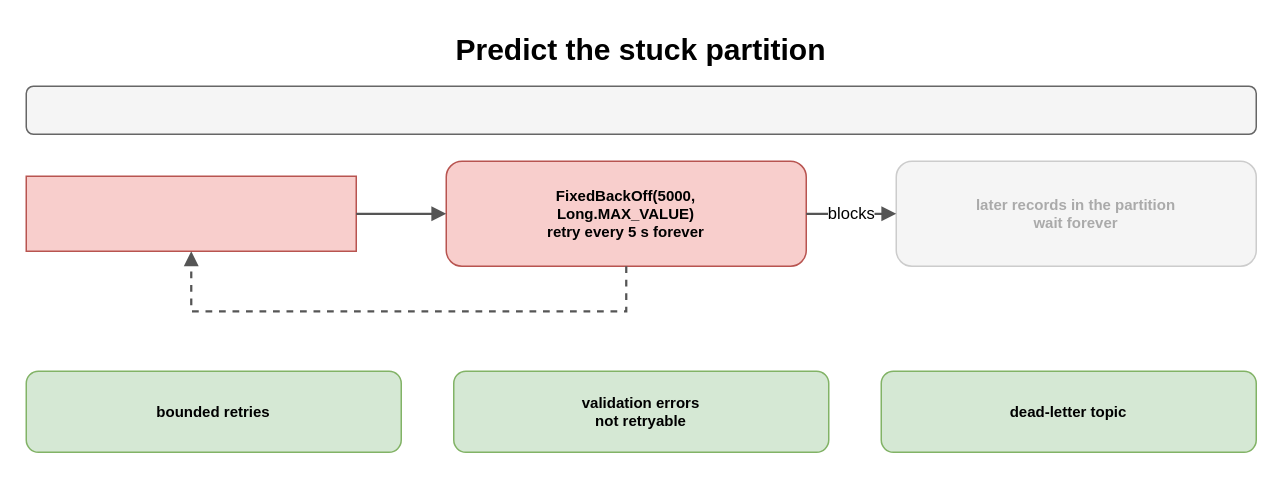
Some shapes in this 1283 by 479 pixel diagram are drawn without their labels. Each missing label, with the centre of its shape:
"email": null IllegalArgumentException: (190,213)
An unbounded retry blocks every later record in the partition: (640,109)
